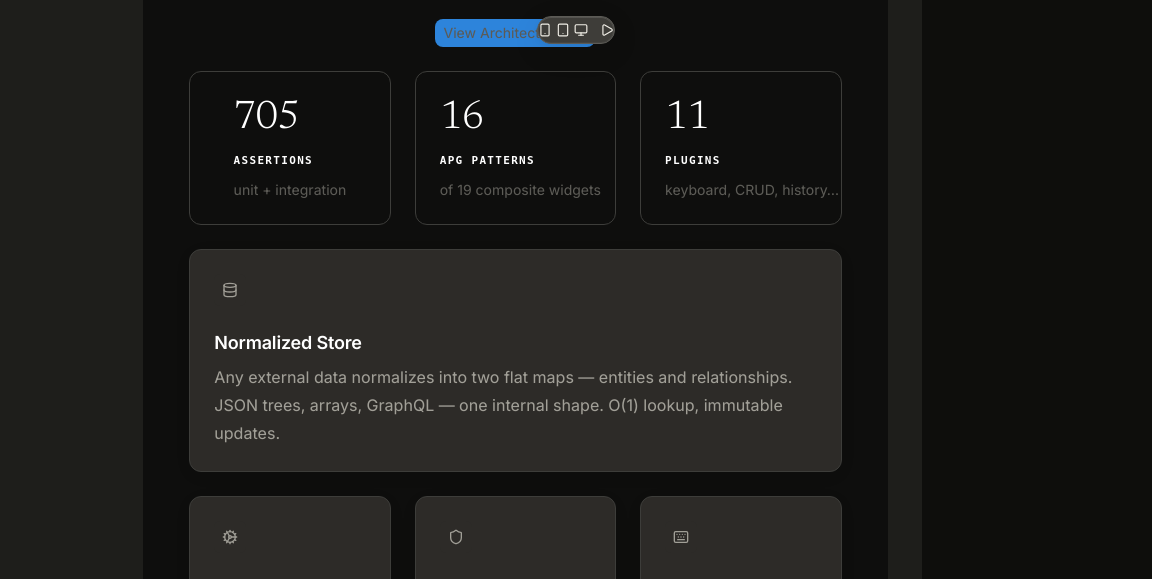
it: CMS Detail Panel › container panel edit updates canvas text via rename
The width and height of the screenshot is (1152, 579).
(page scrolled)
Focus card-store container
Click the element that starts with "Normalized Store" at (515, 360), box left=189, top=249, right=842, bottom=472
(page scrolled)
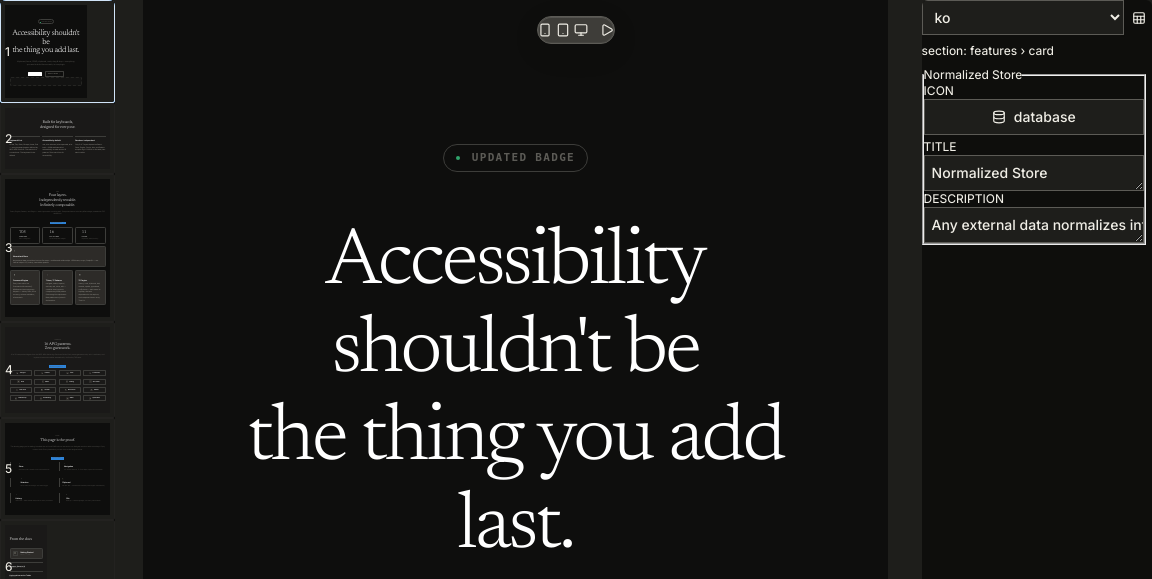
Replace the text in the text box labelled "Title" with "Updated Store Title" at (1034, 173), box left=924, top=155, right=1144, bottom=191
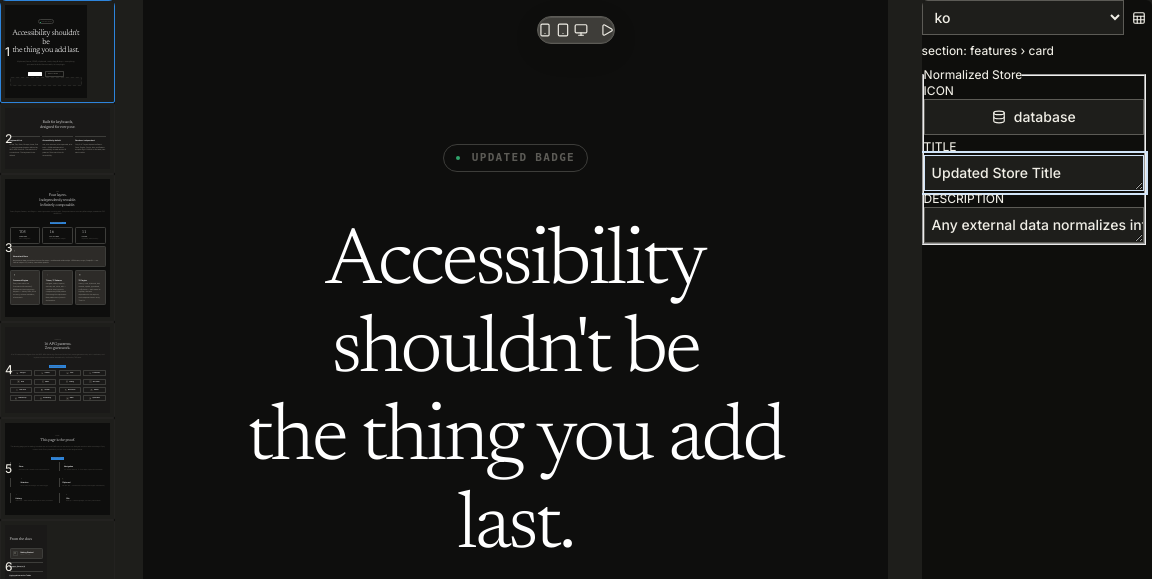
Press Tab
(page scrolled)
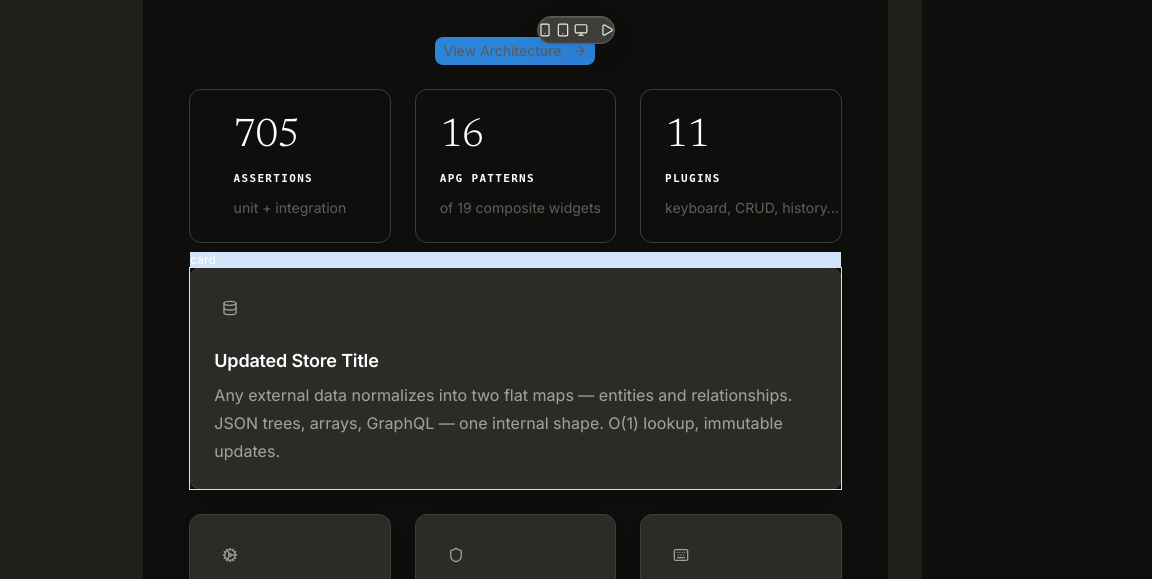
Now the heading "Updated Store Title" is shown, box left=214, top=350, right=379, bottom=371
